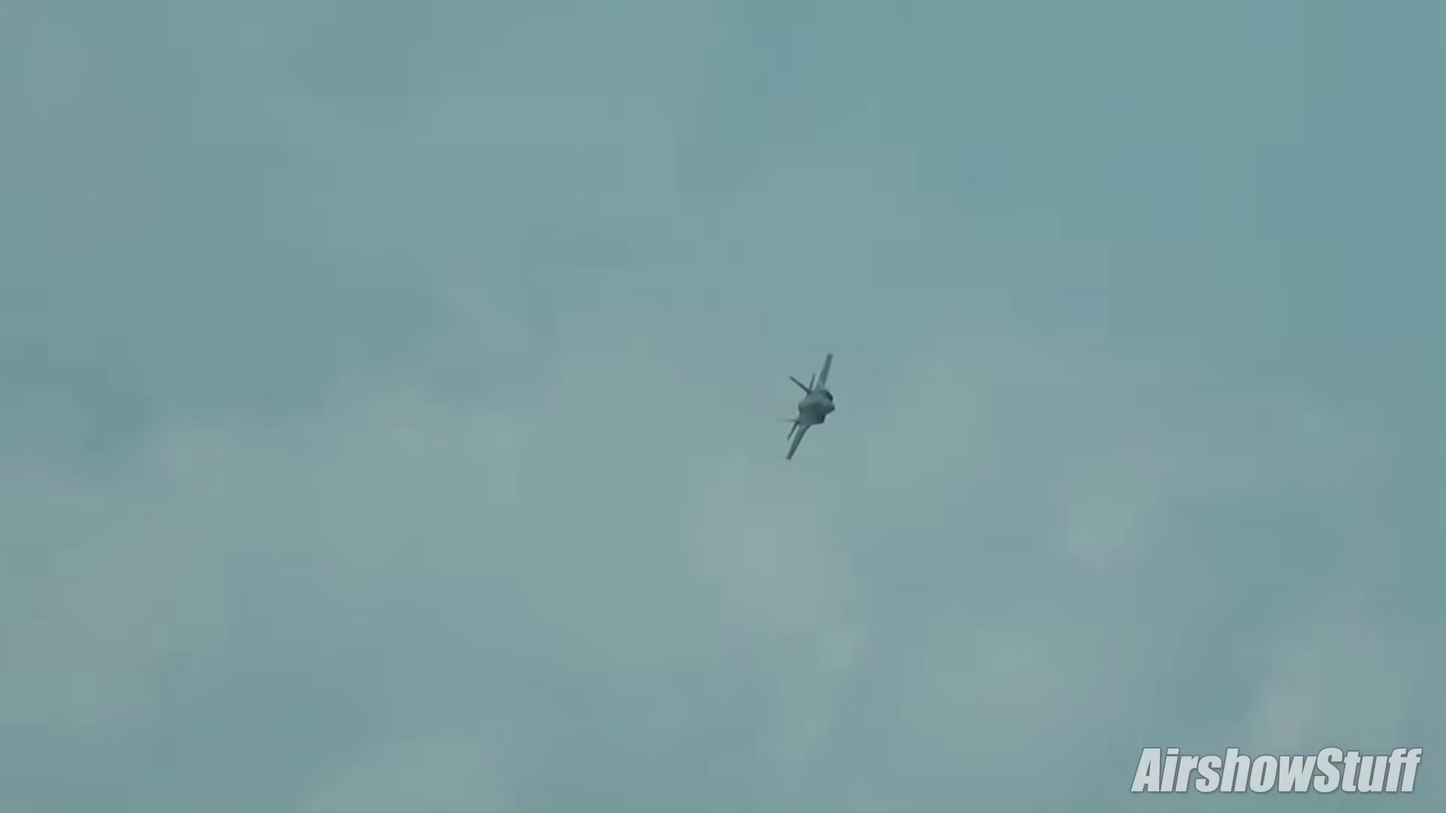F35: (774, 344, 842, 463)
